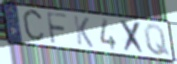4: (100, 18, 119, 52)
C: (21, 8, 47, 45)
F: (45, 10, 68, 46)
K: (72, 14, 95, 50)
Q: (143, 23, 172, 58)
X: (119, 18, 147, 56)
